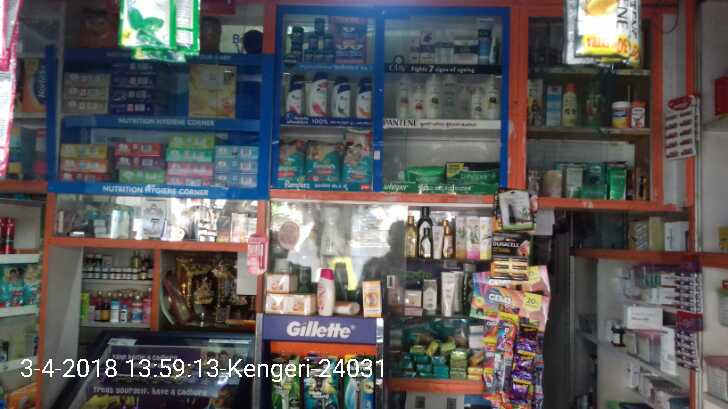vicks: (289, 17, 367, 63)
